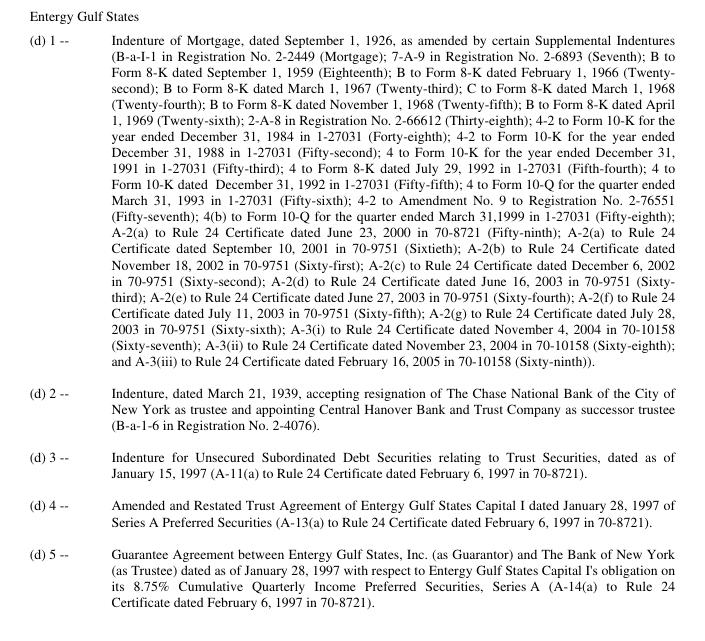table: (28, 29, 674, 609)
table column: (89, 29, 674, 609), (28, 29, 89, 609)
table row: (28, 29, 674, 375), (28, 536, 674, 609), (28, 375, 674, 439), (28, 439, 674, 488), (28, 488, 674, 536)
